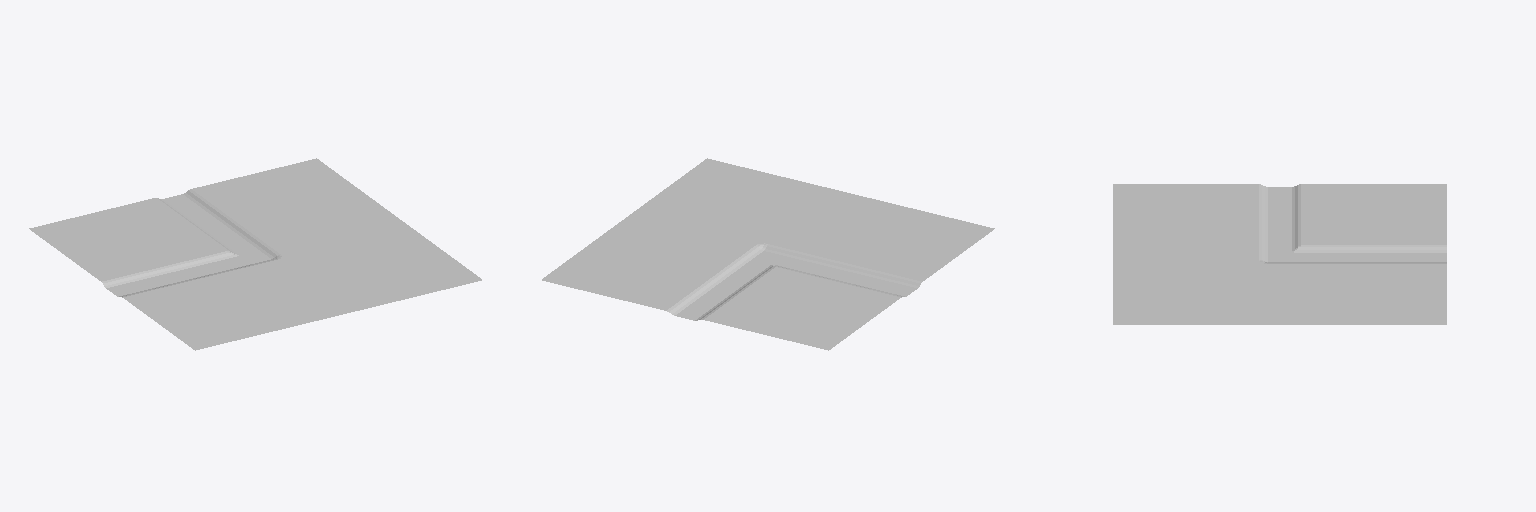
File: Terrain_Part_Plane_11.obj
3 views of the same model, side by side, from view 1: azimuth 30°, elevation 25°; view 2: azimuth 150°, elevation 25°; view 3: azimuth 270°, elevation 25° (orthographic).
Visible parts, largest first — view 1: Terrain_Part_Plane_11_Plane.032; view 2: Terrain_Part_Plane_11_Plane.032; view 3: Terrain_Part_Plane_11_Plane.032.
Part boxes in pixels (left/top/right/bottom): Terrain_Part_Plane_11_Plane.032: left=29, top=158, right=481, bottom=350; Terrain_Part_Plane_11_Plane.032: left=542, top=158, right=994, bottom=350; Terrain_Part_Plane_11_Plane.032: left=1113, top=184, right=1446, bottom=324.
Bounding box in the file's own units: 20 × 0.2 × 20.